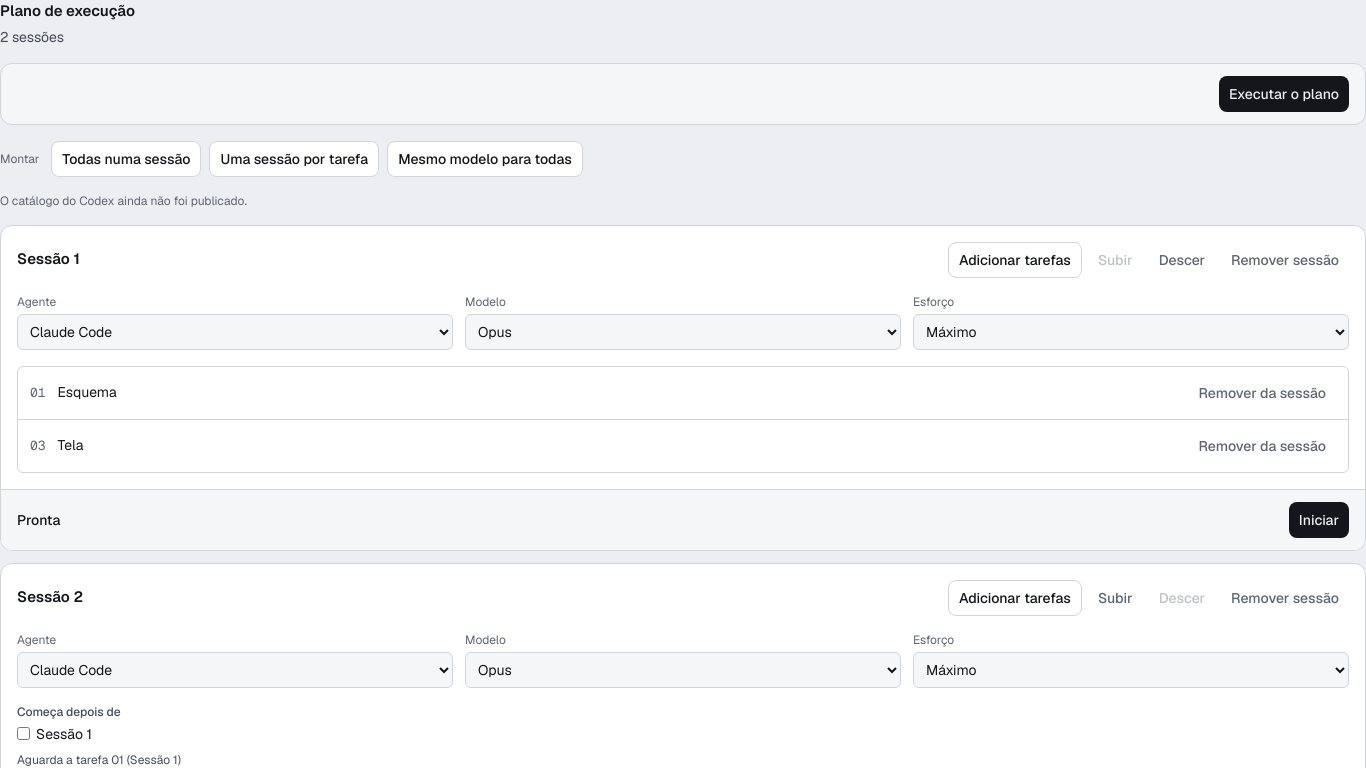
it: ExecutionPlanEditor choosing the tasks of a session › V-02a opens with the tasks of the session checked and says where the others are
The width and height of the screenshot is (1366, 768).
Click the 1st button "Adicionar tarefas" at (1015, 260), box [948,242,1082,278]
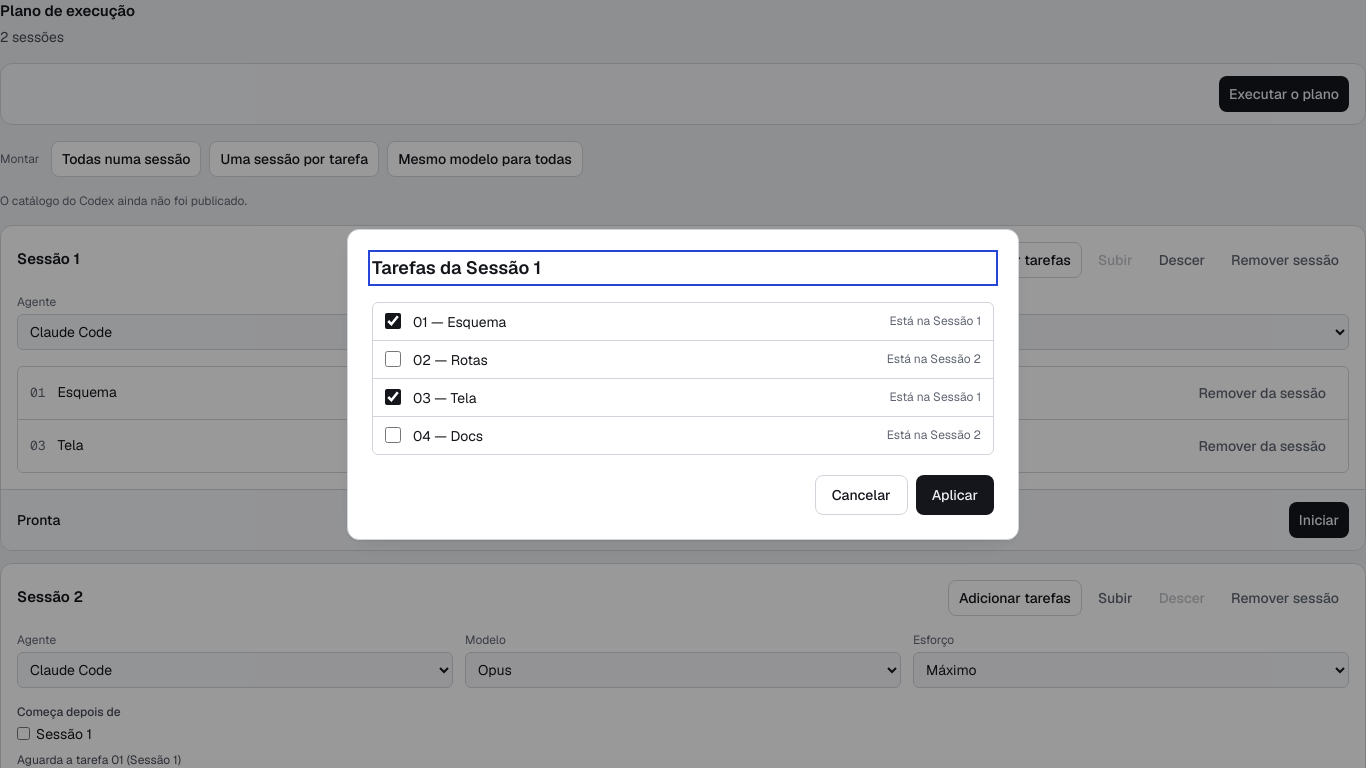
Now the heading "Tarefas da Sessão 1" is shown, box [372,256,541,278]
Now the text "Está na Sessão 2" in the row of "02 — Rotas" is shown, box [887,351,981,367]
